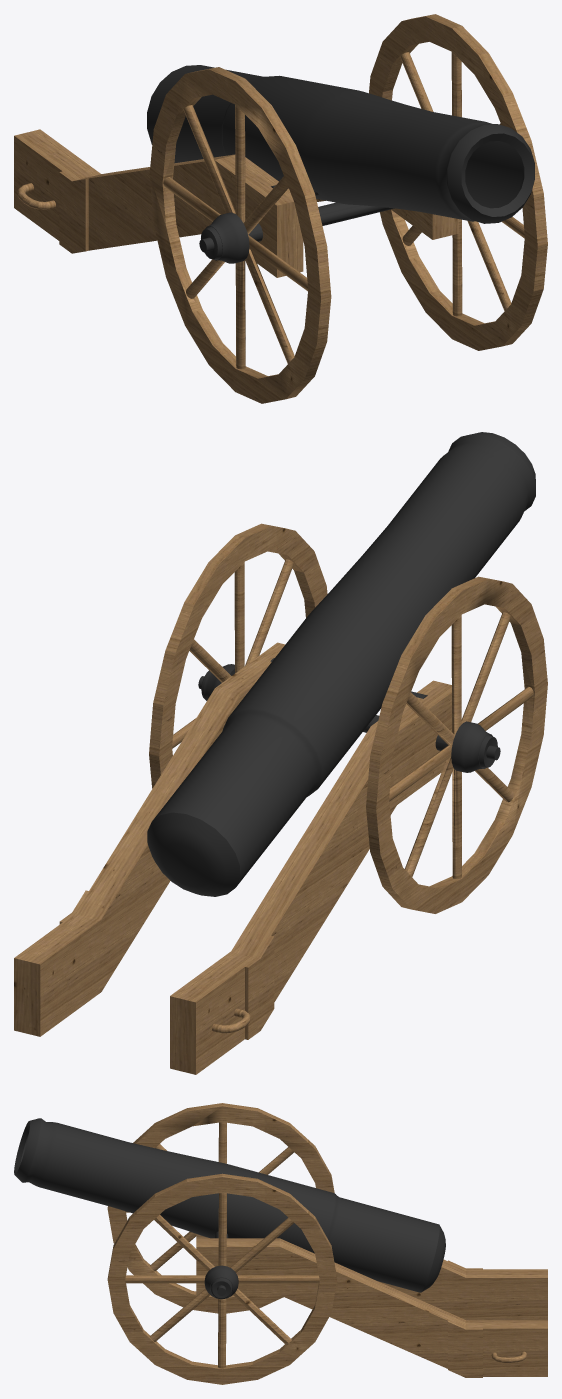
File: War_Cannon.FBX
3 views of the same model, one above another, from view 1: azimuth 30°, elevation 25°; view 2: azimuth 150°, elevation 25°; view 3: azimuth 270°, elevation 25° (orthographic). The views are drawn at different scales.
Parts seen in each view (by area): view 1: Cannon, Cannon_Base; view 2: Cannon, Cannon_Base; view 3: Cannon, Cannon_Base.
Part boxes in pixels (<box>): Cannon: <box>14,14,547,403</box>; Cannon_Base: <box>147,65,534,223</box>; Cannon: <box>14,523,547,1074</box>; Cannon_Base: <box>147,432,535,896</box>; Cannon: <box>107,1103,547,1384</box>; Cannon_Base: <box>14,1118,445,1292</box>.
Bounding box in the file's own units: 16.16 × 17.76 × 37.92.
2 materials, 1 textured.
